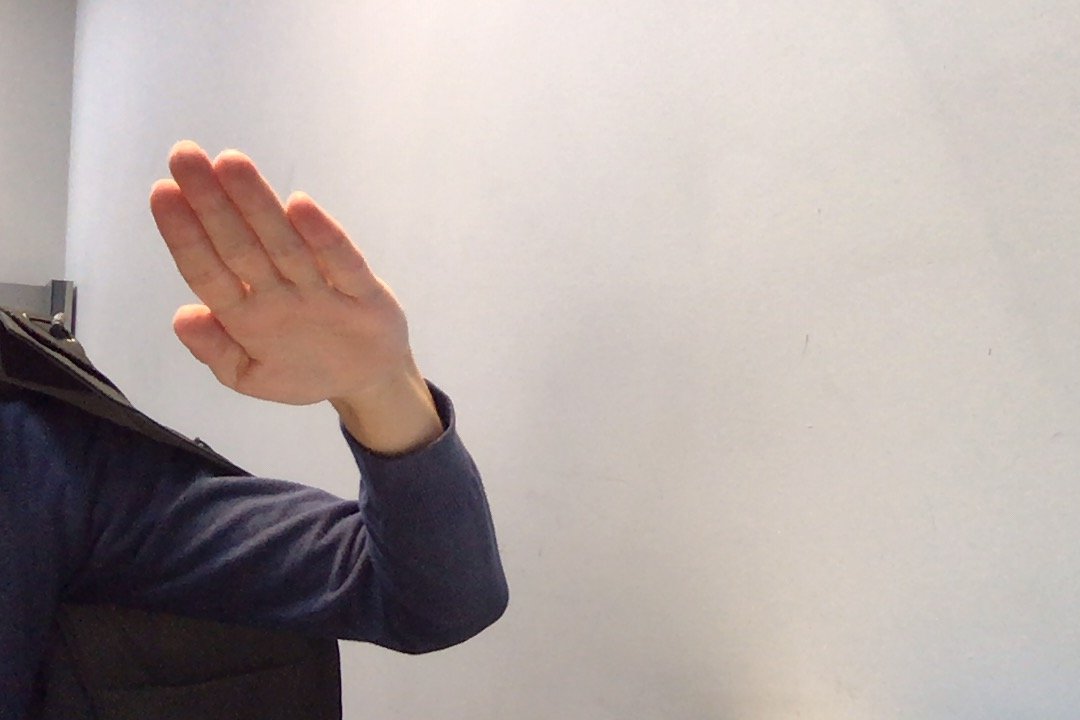palmhand: (123, 129, 428, 423)
